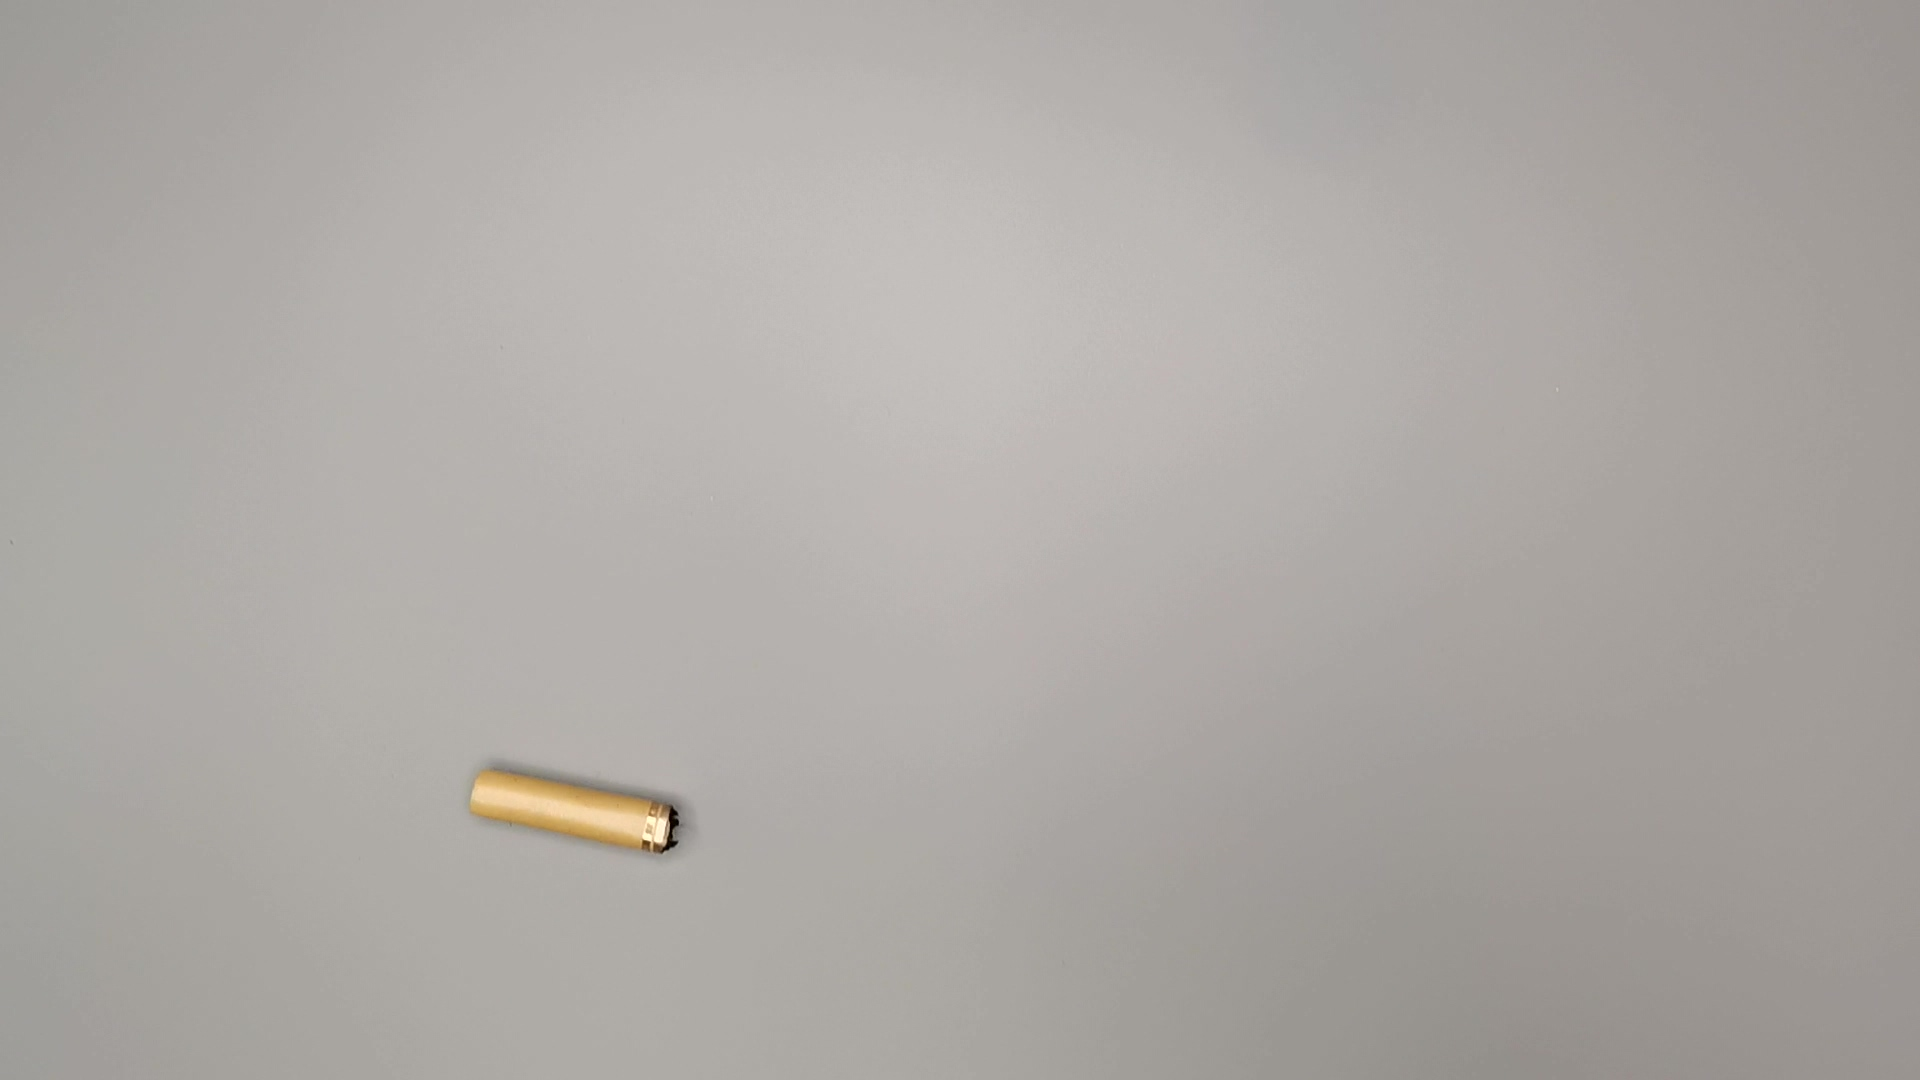cigarette: (464, 756, 695, 865)
